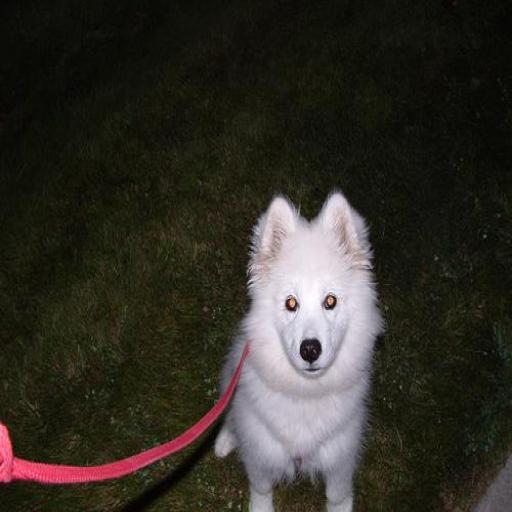dog_face: (249, 192, 365, 377)
